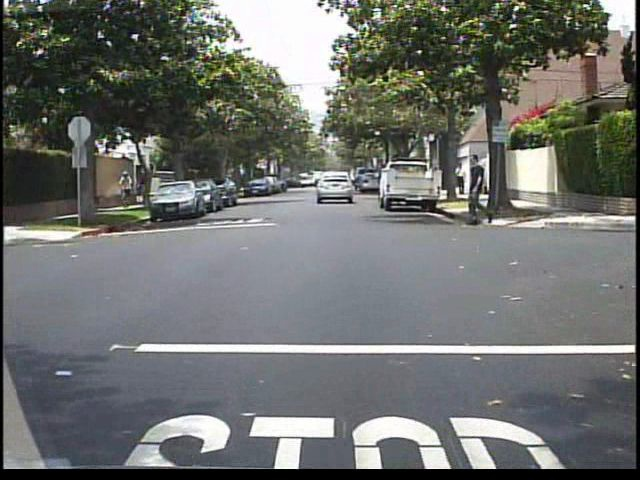person: (459, 153, 505, 231), (116, 167, 138, 204), (171, 169, 188, 203), (455, 161, 467, 197)
